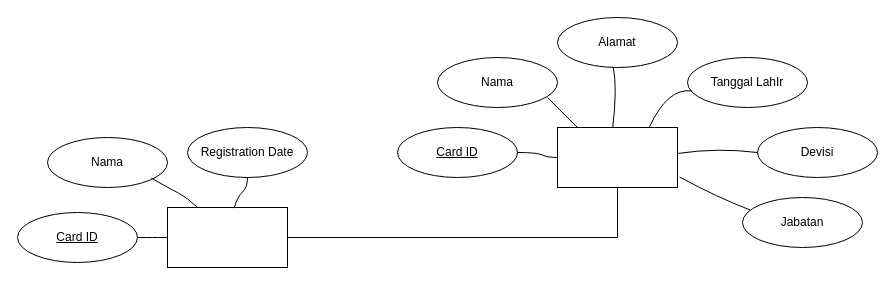
Image size: 895x285. Some labels were removed from this diagram. The centre of each missing label's shape, as x and y in pixels:
"Card" goes at pixel 227 237.
"Karywan" goes at pixel 617 157.
